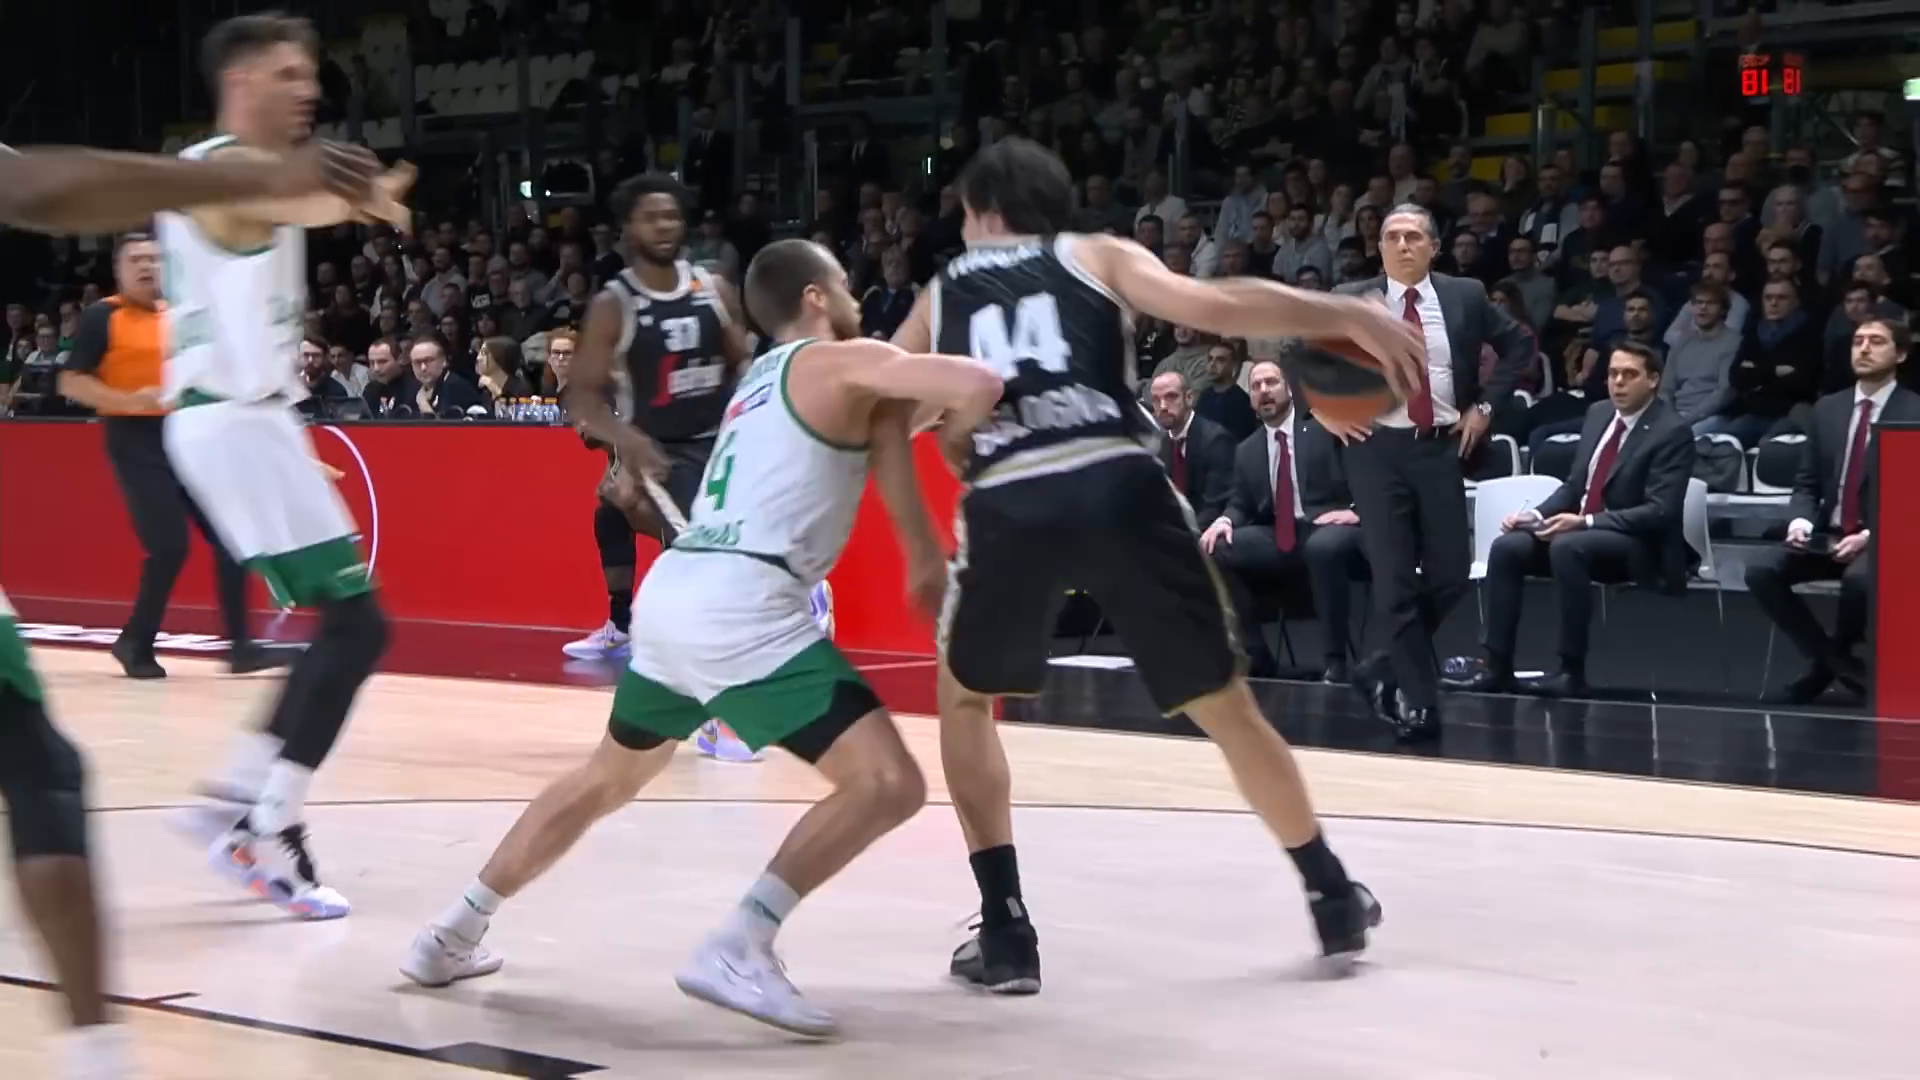ball: (1294, 291, 1425, 433)
